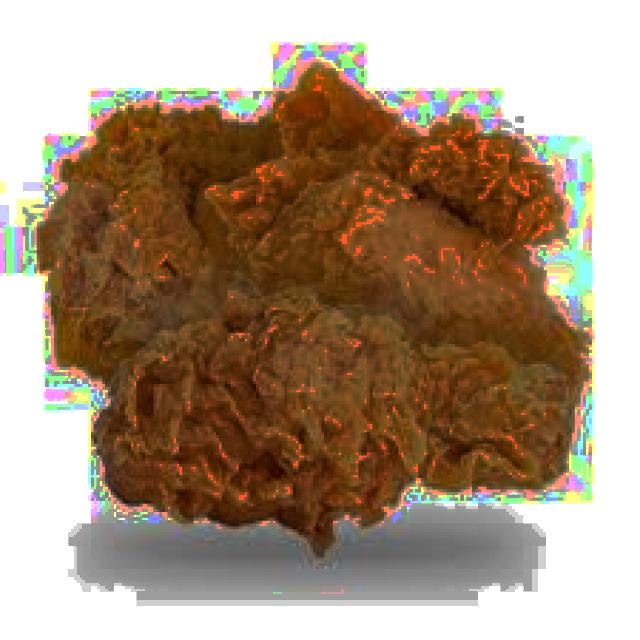fried_chicken: (37, 62, 580, 552)
